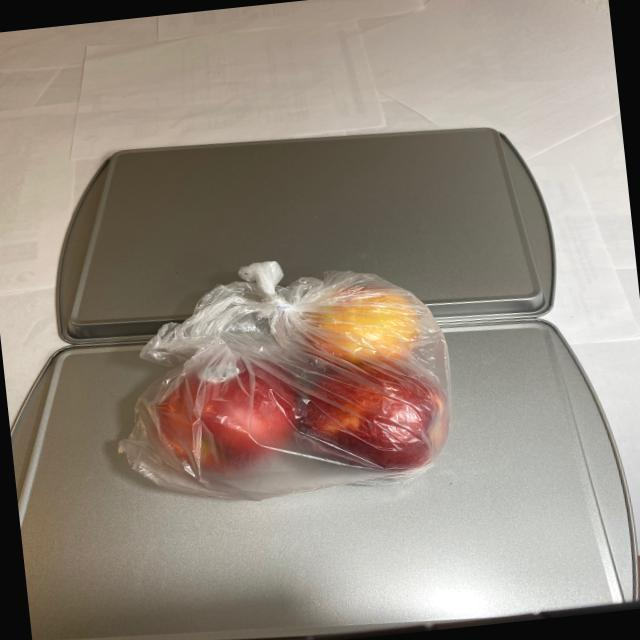apple: (122, 268, 456, 504)
